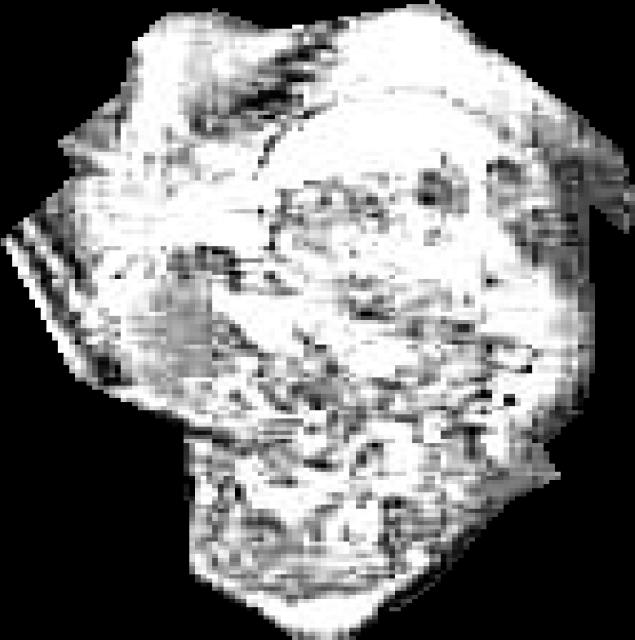tumor_moderate_chance: (1, 0, 635, 640)
